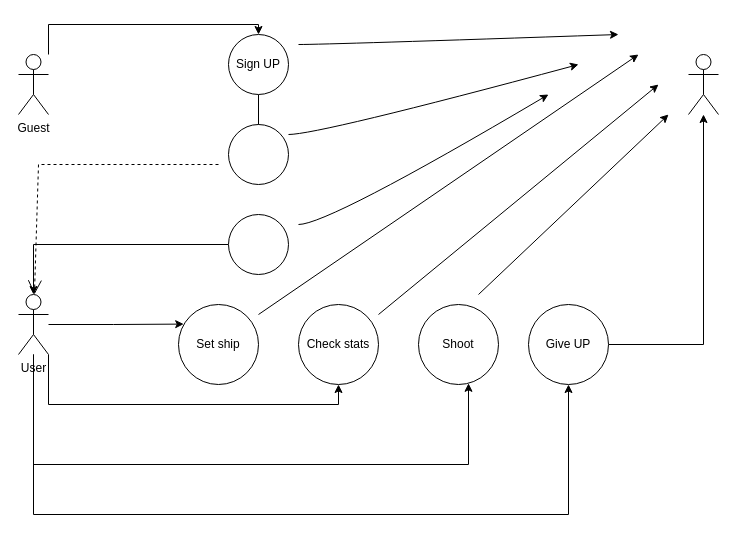
This 738x540 diagram has some shape labels left out. Here are the shapes that lost their labels. From the top down, the centre of each, then its label:
(703,84): Server
(258,154): Sign IN
(258,244): Start game
